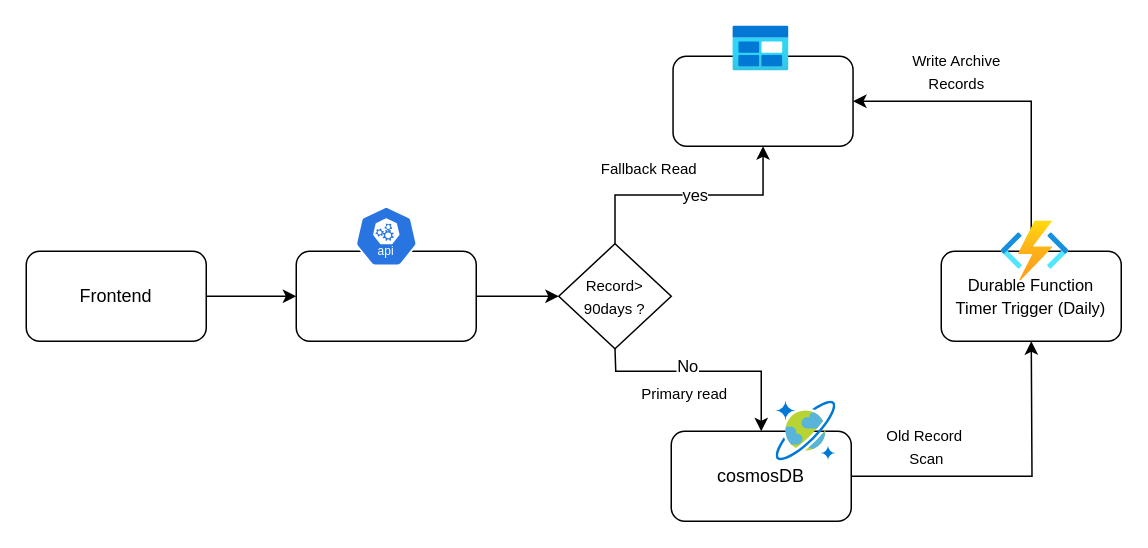
The diagram is 1148 pixels wide and 548 high, and some of its shapes have lost their labels. Here are the shapes that lost their labels. From the top down, the centre of each, then its label:
At (x=762, y=100): "Blob storage".
At (x=385, y=295): "API Call".
